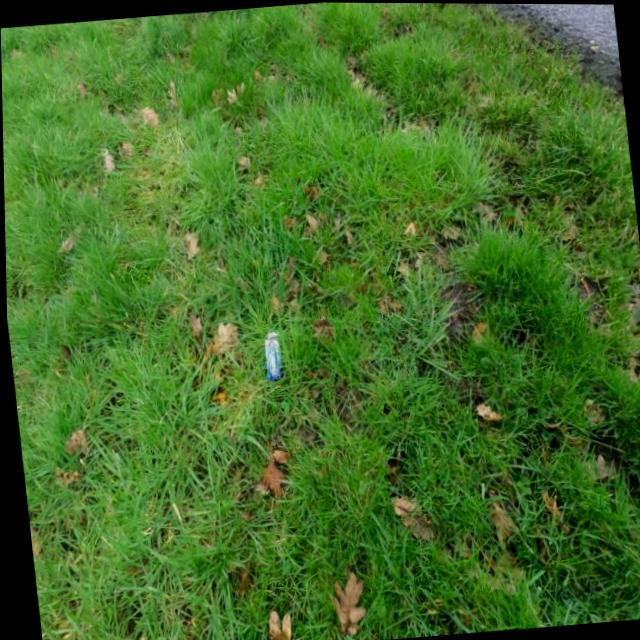Plastic: (259, 328, 282, 379)
